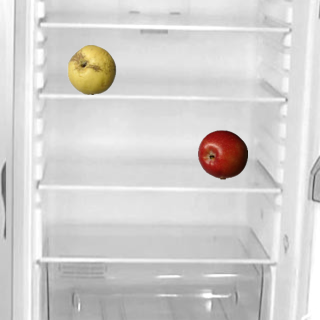Apple Braeburn: (197, 129, 247, 179)
Apple Golden 1: (66, 44, 116, 94)
